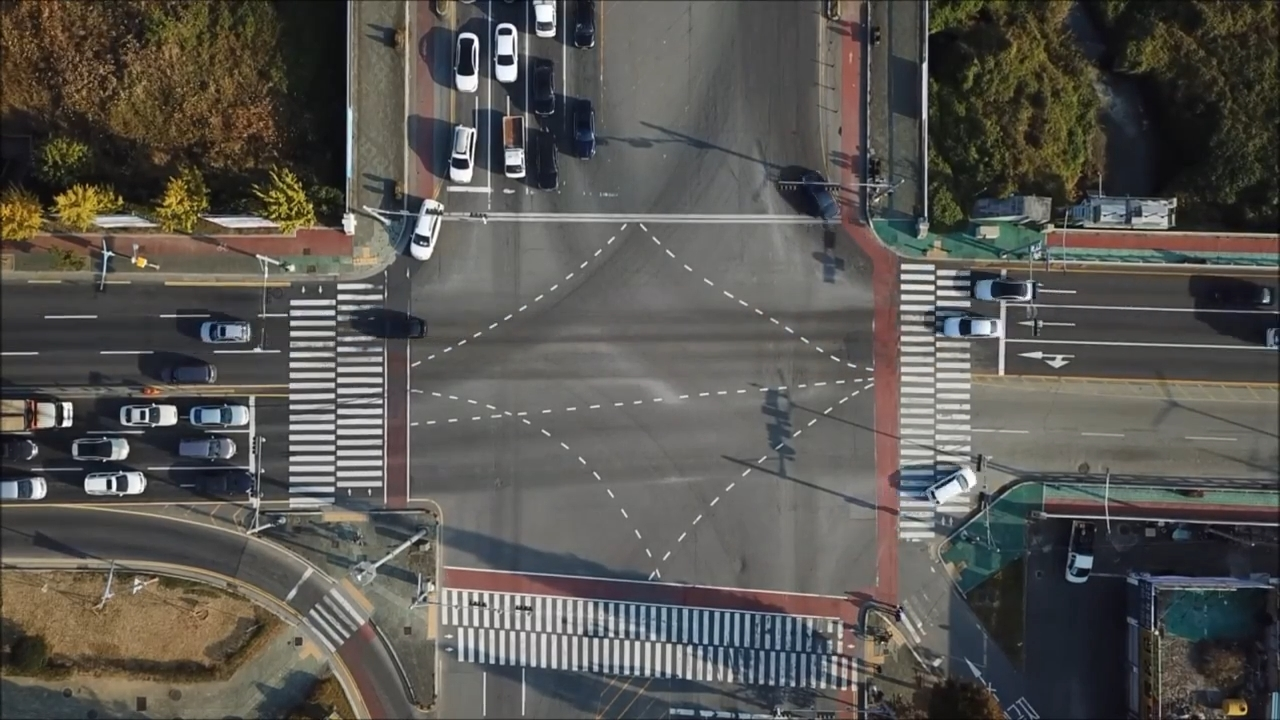car: (1, 396, 73, 433), (408, 196, 444, 259), (800, 169, 841, 220), (925, 467, 977, 506), (1067, 521, 1097, 586), (195, 468, 256, 498), (492, 21, 519, 85), (941, 313, 1004, 340), (82, 471, 147, 496), (534, 124, 559, 189), (447, 123, 475, 181), (455, 30, 481, 92), (502, 113, 526, 175), (532, 55, 557, 114), (371, 313, 425, 339), (972, 279, 1035, 301), (118, 406, 179, 428), (176, 436, 234, 459), (574, 102, 596, 162), (72, 437, 129, 460), (190, 405, 249, 426), (1209, 285, 1268, 306), (162, 362, 218, 383), (198, 321, 251, 343), (573, 1, 595, 50), (1, 476, 45, 497), (533, 1, 559, 36), (1, 438, 37, 460)
